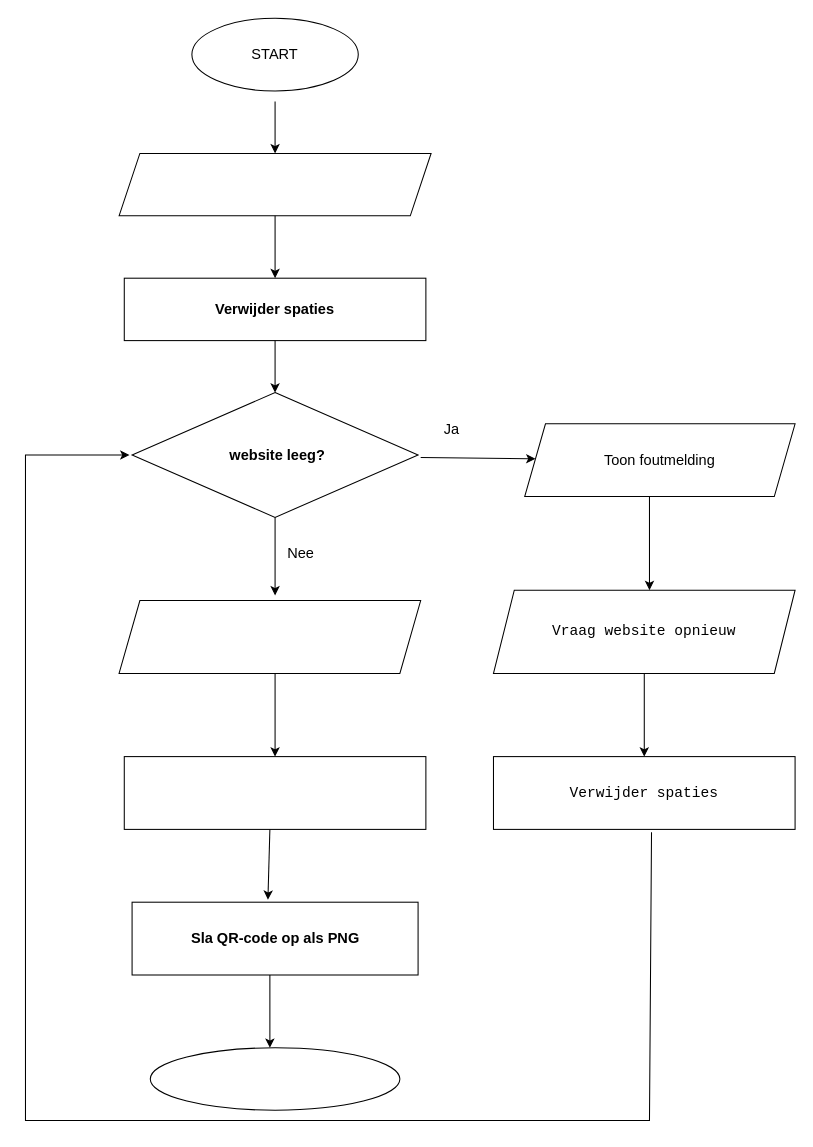
Some shapes in this 813 by 1147 pixel diagram are drawn without their labels. The box of each missing label's shape, as (x1, y1, x2, y2) in pixels:
EINDE: (149, 1047, 400, 1110)
Genereer QR-code: (123, 756, 426, 829)
Toon websiteadres ontvangen: (118, 600, 421, 673)
Vraag websiteadres: (118, 152, 431, 216)
